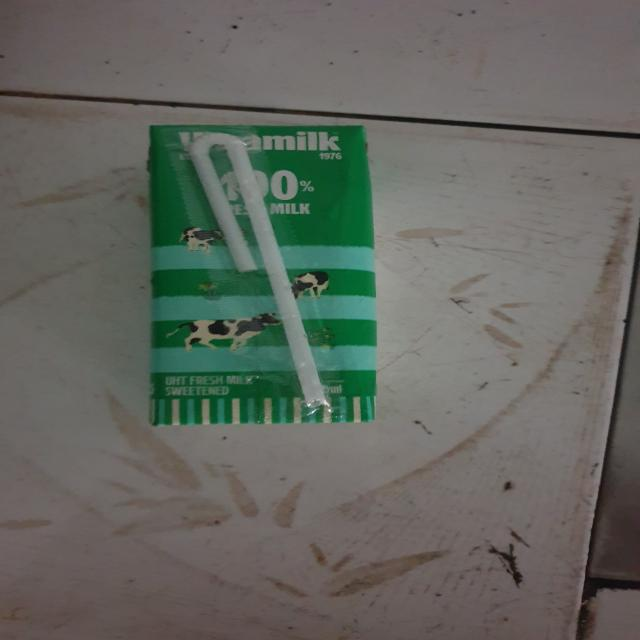Vina: (154, 122, 379, 425)
